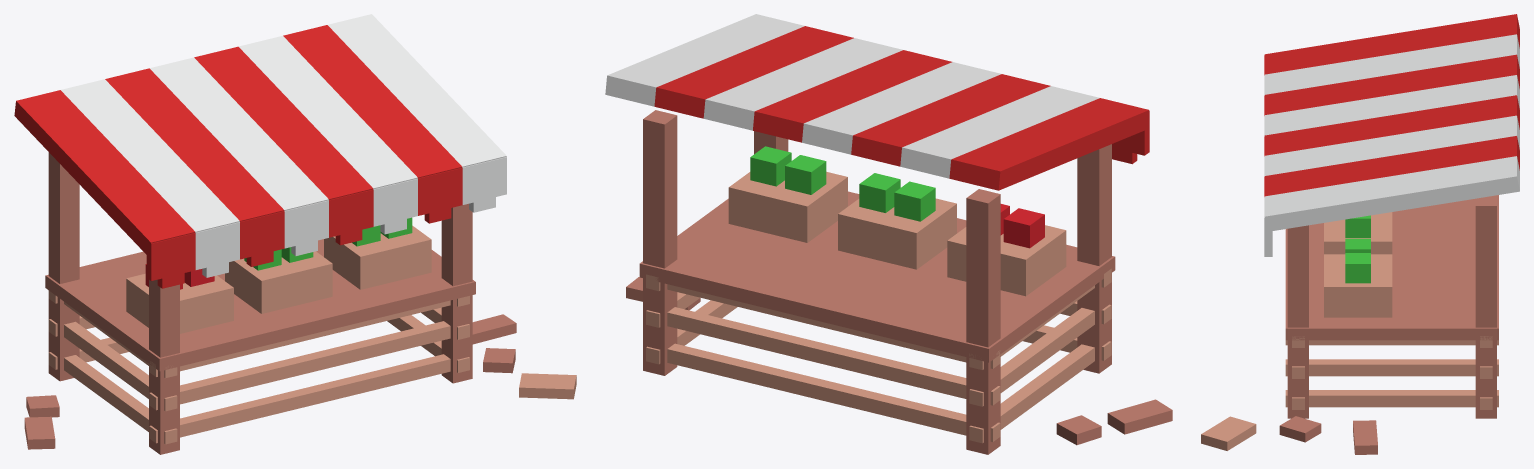
Rendered from MarketStallRed.fbx.
3 views of the same model, side by side, from view 1: azimuth 30°, elevation 25°; view 2: azimuth 150°, elevation 25°; view 3: azimuth 270°, elevation 25° (orthographic). The views are drawn at different scales.
Parts seen in each view (by area): view 1: StripeRed, White.002, WoodLight.005, Wood.008, LeafGreen.008; view 2: Wood.008, WoodLight.005, StripeRed, White.002, LeafGreen.008, Apple.003; view 3: White.002, Wood.008, StripeRed, WoodLight.005, LeafGreen.008.
Part boxes in pixels (x1,y1,x2,y2): StripeRed: (14,25,462,288); White.002: (61,14,506,277); WoodLight.005: (48,225,576,444); Wood.008: (24,152,516,454); LeafGreen.008: (244,217,412,270); Wood.008: (626,110,1172,454); WoodLight.005: (646,171,1111,443); StripeRed: (654,26,1149,190); White.002: (605,14,1099,178); LeafGreen.008: (750,146,935,221); Apple.003: (1000,204,1044,248); White.002: (1264,34,1519,256); Wood.008: (1279,195,1498,454); StripeRed: (1264,14,1519,196); WoodLight.005: (1201,212,1498,450); LeafGreen.008: (1345,215,1370,283).
Size of the model in its own units: 12.28 by 6.52 by 7.47.
